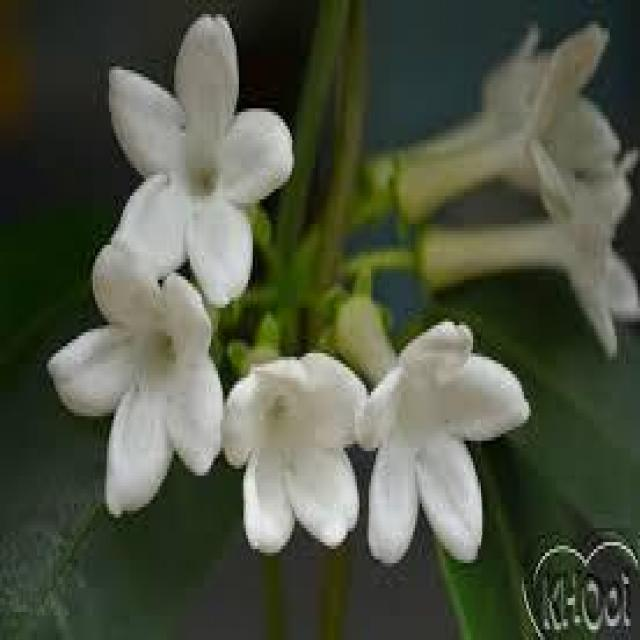organic waste: (95, 12, 292, 324), (44, 230, 250, 497), (352, 294, 526, 574), (222, 328, 406, 560), (401, 152, 633, 334)
